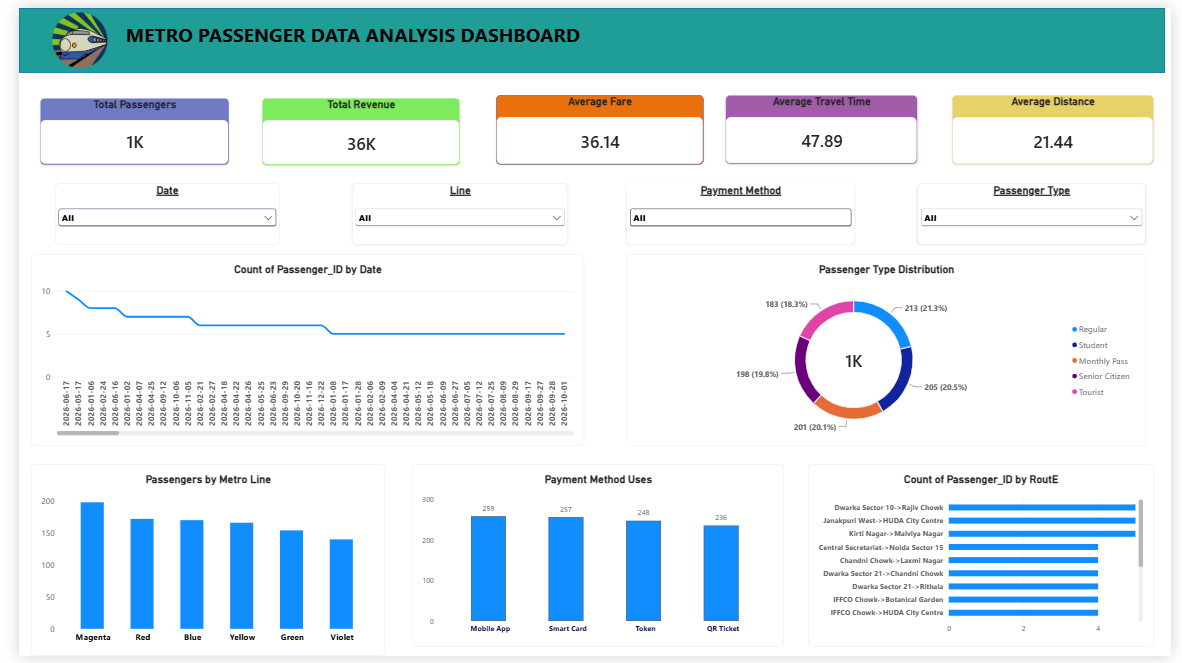

This screenshot's page, from the dashboard's own definition file:
{"tool":"powerbi","page":{"name":"Dashboard","canvas":[1920,1080],"ordinal":0},"visuals":[{"type":"cardVisual","title":"Total Passengers","fields":{"Data":["CountNonNull(metro_passengers metropassengers - sheet3.Passenger_ID)"]},"box":[36,150,315,111.7],"z":0},{"type":"cardVisual","title":"Total Revenue","fields":{"Data":["Sum(metro_passengers metropassengers - sheet3.Fare)"]},"box":[406,150,330,112.5],"z":1000},{"type":"cardVisual","title":"Average Fare","fields":{"Data":["Avg(metro_passengers metropassengers - sheet3.Fare)"]},"box":[794,146,346,116],"z":2000},{"type":"cardVisual","title":"Average Travel Time","fields":{"Data":["Avg(metro_passengers metropassengers - sheet3.Travel_Time_Min)"]},"box":[1178,146,320,115],"z":3000},{"type":"lineChart","fields":{"Category":["metro_passengers metropassengers - sheet3.Date"],"Y":["CountNonNull(metro_passengers metropassengers - sheet3.Passenger_ID)"]},"box":[20,410,922,320],"z":4000},{"type":"clusteredColumnChart","title":"Passengers by Metro Line","fields":{"Category":["metro_passengers metropassengers - sheet3.Line"],"Y":["CountNonNull(metro_passengers metropassengers - sheet3.Passenger_ID)"]},"box":[20,760,590,320],"z":5000},{"type":"donutChart","title":"Passenger Type Distribution","fields":{"Category":["metro_passengers metropassengers - sheet3.Passenger_Type"],"Y":["CountNonNull(metro_passengers metropassengers - sheet3.Passenger_ID)"]},"box":[1012,410,866,320],"z":6000},{"type":"clusteredColumnChart","title":"Payment Method Uses","fields":{"Category":["metro_passengers metropassengers - sheet3.Payment_Method"],"Y":["CountNonNull(metro_passengers metropassengers - sheet3.Passenger_ID)"]},"box":[656,760,620,304],"z":7000},{"type":"clusteredBarChart","fields":{"Category":["metro_passengers metropassengers - sheet3.RoutE"],"Y":["CountNonNull(metro_passengers metropassengers - sheet3.Passenger_ID)"]},"box":[1316,760,576,304],"z":8000},{"type":"cardVisual","title":"Average Distance","fields":{"Data":["Avg(metro_passengers metropassengers - sheet3.Trip_Distance_KM)"]},"box":[1556,146,336,116],"z":9000},{"type":"slicer","title":"Line","fields":{"Values":["metro_passengers metropassengers - sheet3.Line"]},"box":[556,292,360,102],"z":10000},{"type":"slicer","title":"Date","fields":{"Values":["metro_passengers metropassengers - sheet3.Date"]},"box":[60,292.5,374,102],"z":11000},{"type":"slicer","title":"Passenger Type","fields":{"Values":["metro_passengers metropassengers - sheet3.Passenger_Type"]},"box":[1498,292,380,102],"z":12000},{"type":"slicer","title":"Payment Method","fields":{"Values":["metro_passengers metropassengers - sheet3.Payment_Method"]},"box":[1012.5,292.5,380,102],"z":13000},{"type":"shape","box":[0,0,1910,108],"z":14000},{"type":"textbox","box":[10,22,1910,108],"z":15000},{"type":"image","box":[10,7.5,182.5,92.5],"z":15002}]}

Visuals, with their boxes in screenshot pixels (x1, y1, x2, y2), scaled from the page's 1920x1080 canvas onto the 1182x663 screenshot:
"Total Passengers" cardVisual: crop(22, 92, 216, 161)
"Total Revenue" cardVisual: crop(250, 92, 453, 161)
"Average Fare" cardVisual: crop(489, 90, 702, 161)
"Average Travel Time" cardVisual: crop(725, 90, 922, 160)
lineChart - metro_passengers metropassengers - sheet3.Date x CountNonNull(metro_passengers metropassengers - sheet3.Passenger_ID): crop(12, 252, 580, 448)
"Passengers by Metro Line" clusteredColumnChart: crop(12, 467, 376, 662)
"Passenger Type Distribution" donutChart: crop(623, 252, 1156, 448)
"Payment Method Uses" clusteredColumnChart: crop(404, 467, 786, 653)
clusteredBarChart - metro_passengers metropassengers - sheet3.RoutE x CountNonNull(metro_passengers metropassengers - sheet3.Passenger_ID): crop(810, 467, 1165, 653)
"Average Distance" cardVisual: crop(958, 90, 1165, 161)
"Line" slicer: crop(342, 179, 564, 242)
"Date" slicer: crop(37, 180, 267, 242)
"Passenger Type" slicer: crop(922, 179, 1156, 242)
"Payment Method" slicer: crop(623, 180, 857, 242)
shape: crop(0, 0, 1176, 66)
textbox: crop(6, 14, 1181, 80)
image: crop(6, 5, 119, 61)
